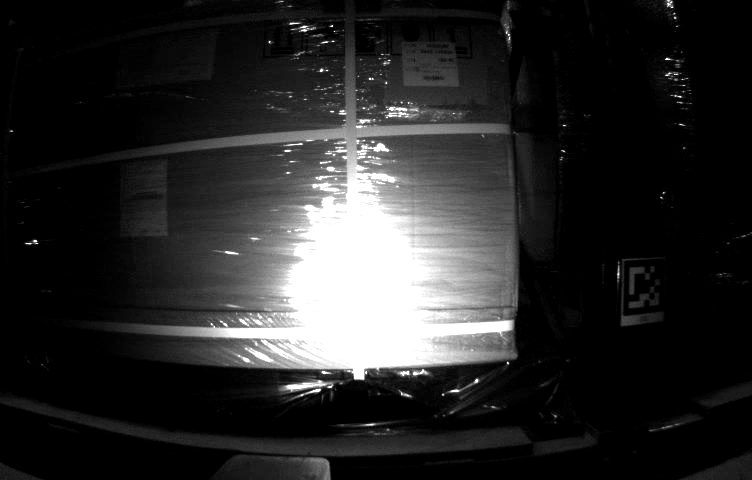True Barcode: (400, 39, 461, 85)
